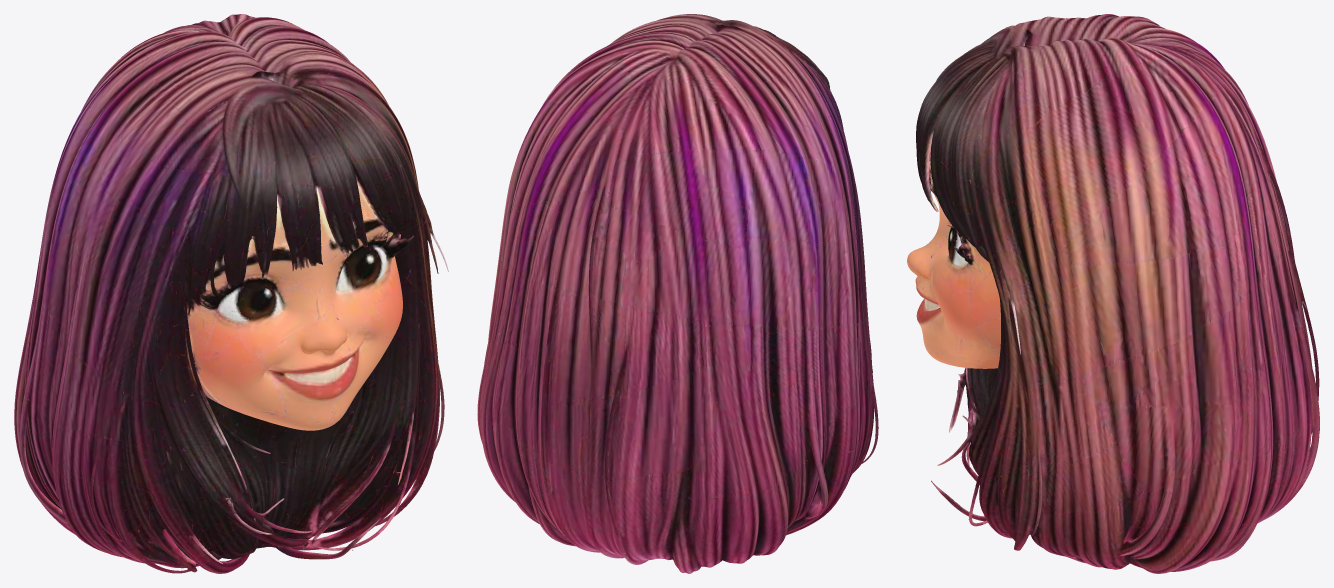
Rendered from planet-05.glb.
The picture shows the model from 3 angles, left to right: view 1: azimuth 30°, elevation 25°; view 2: azimuth 150°, elevation 25°; view 3: azimuth 270°, elevation 25°; orthographic projection. The views are drawn at different scales.
Size of the model in its own units: 1.39 by 1.9 by 1.41.
Materials: 1 (1 with a texture image).
